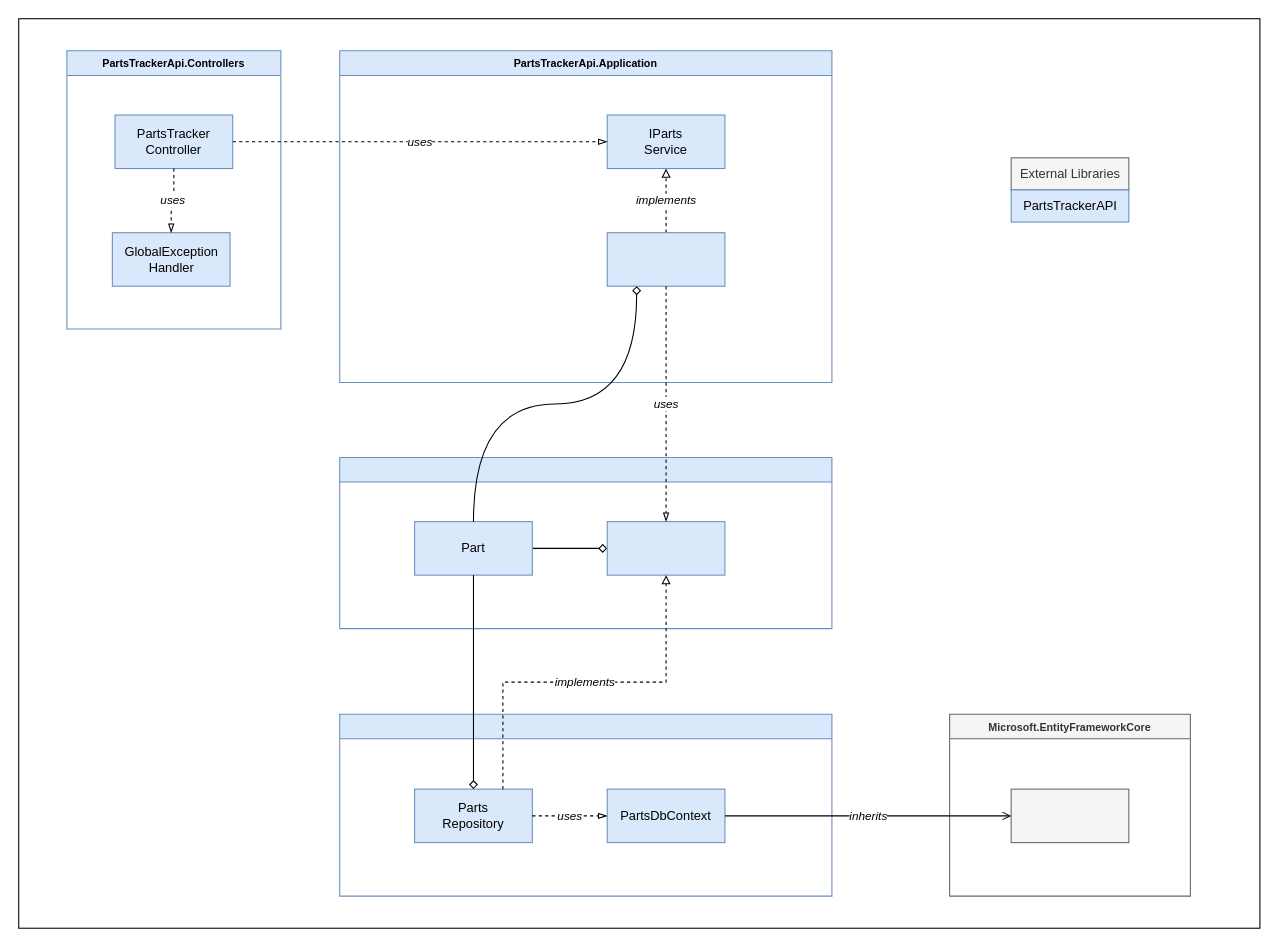
This 1279x947 diagram has some shape labels left out. Each missing label, with the box of its shape:
DbContext: (1010, 788, 1129, 843)
IParts Repository: (606, 521, 725, 575)
Parts Service: (606, 232, 725, 286)
PartsTrackerApi.Domain: (339, 456, 832, 629)
PartsTrackerApi.Infrastructure: (339, 713, 832, 896)
